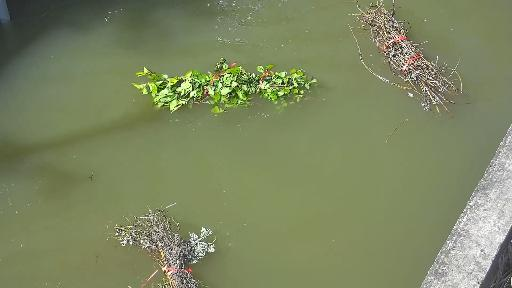twig: (125, 50, 328, 120), (334, 0, 464, 107), (92, 196, 235, 288)
